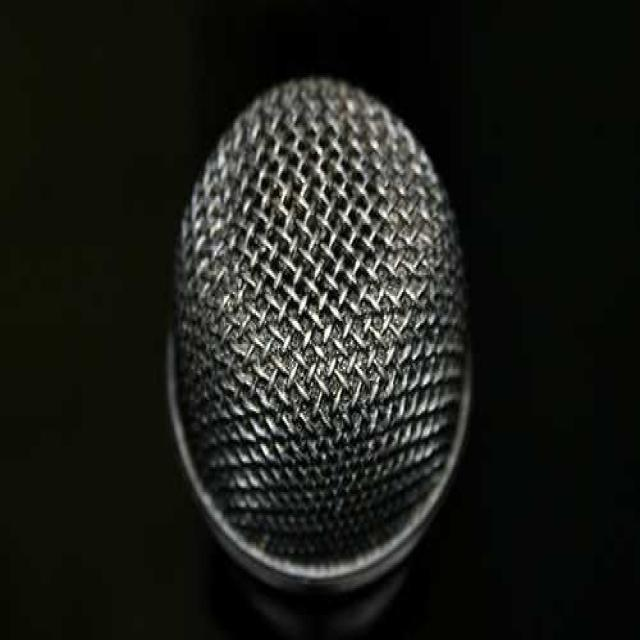microphone: (165, 77, 474, 594)
